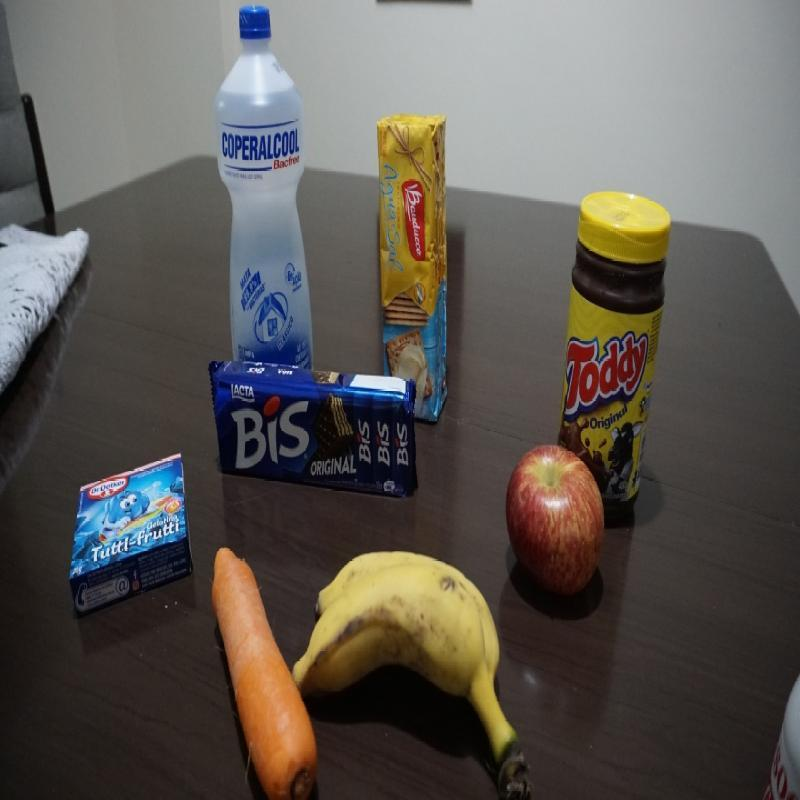Alcohol Bottle: (216, 5, 316, 358)
Apple: (512, 447, 605, 599)
Banana: (321, 550, 517, 796)
Carrot: (211, 542, 306, 796)
Chocolate Powder: (566, 184, 672, 442)
Cracker: (377, 116, 452, 378)
Gelatine: (70, 452, 194, 618)
